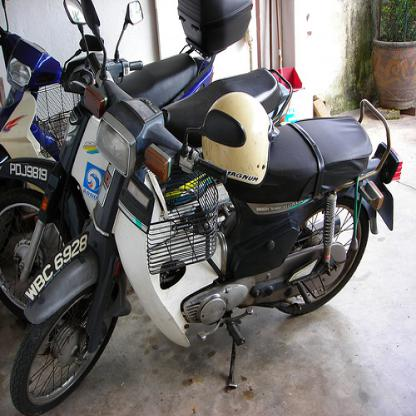motorbike: (9, 0, 403, 415), (0, 0, 292, 321), (0, 0, 252, 202)
pottedplant: (371, 0, 415, 110)
